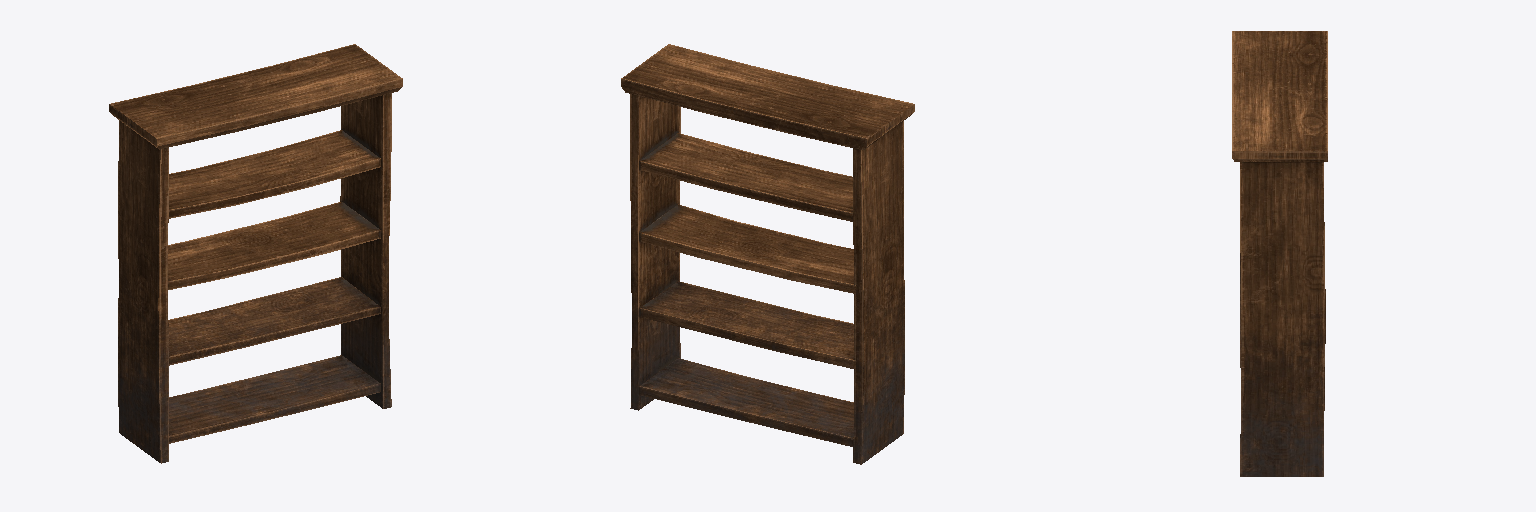
3 renders of one model, left to right at view 1: azimuth 30°, elevation 25°; view 2: azimuth 150°, elevation 25°; view 3: azimuth 270°, elevation 25°, orthographic.
Visible parts, largest first — view 1: object_0; view 2: object_0; view 3: object_0.
Part boxes in pixels (bbox=[...]): object_0: bbox=[109, 44, 402, 463]; object_0: bbox=[621, 44, 914, 464]; object_0: bbox=[1232, 31, 1327, 476].
Bounding box in the file's own units: 1.81 × 2.32 × 0.6053.
Materials: 1 (1 with a texture image).